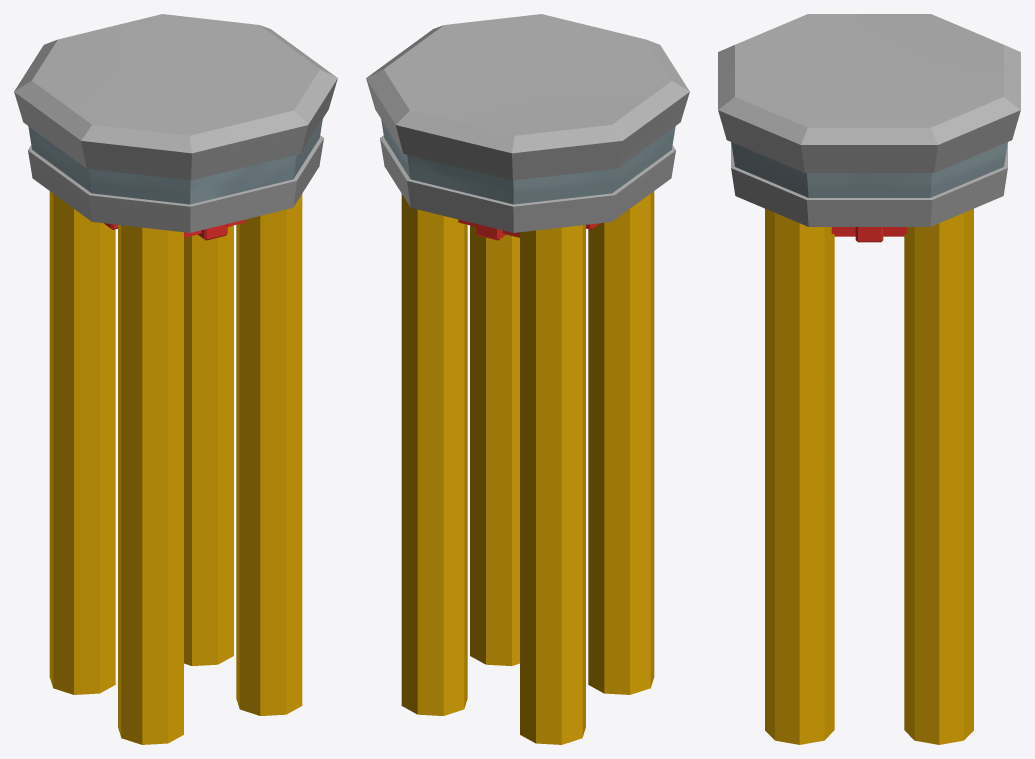
File: tower.gltf
3 renders of one model, left to right at view 1: azimuth 30°, elevation 25°; view 2: azimuth 150°, elevation 25°; view 3: azimuth 270°, elevation 25°, orthographic. The views are drawn at different scales.
Visible parts, largest first — view 1: Cube, Cylinder.004, Cylinder.001, Cylinder.003, Cylinder.002; view 2: Cube, Cylinder.003, Cylinder.002, Cylinder.004, Cylinder.001; view 3: Cube, Cylinder.001, Cylinder.002, Cube.011.
Part boxes in pixels (x1,y1,x2,y2): Cube: [14, 14, 337, 232]; Cylinder.004: [118, 225, 183, 744]; Cylinder.001: [236, 194, 302, 715]; Cylinder.003: [49, 191, 115, 694]; Cylinder.002: [184, 225, 233, 665]; Cube: [366, 14, 689, 232]; Cylinder.003: [520, 225, 585, 744]; Cylinder.002: [401, 194, 467, 715]; Cylinder.004: [588, 191, 654, 694]; Cylinder.001: [470, 225, 519, 665]; Cube: [718, 14, 1020, 226]; Cylinder.001: [765, 208, 834, 744]; Cylinder.002: [904, 208, 973, 744]; Cube.011: [831, 227, 907, 242].
Size of the model in its own units: 4.34 by 9.97 by 4.34.
6 materials, 6 textured.
